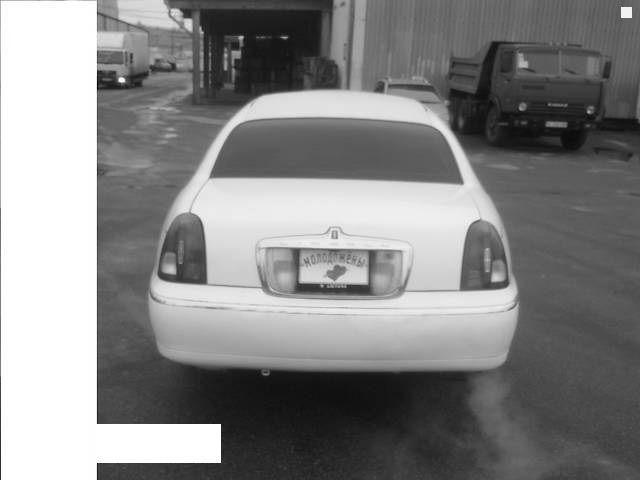car: (145, 87, 524, 375)
